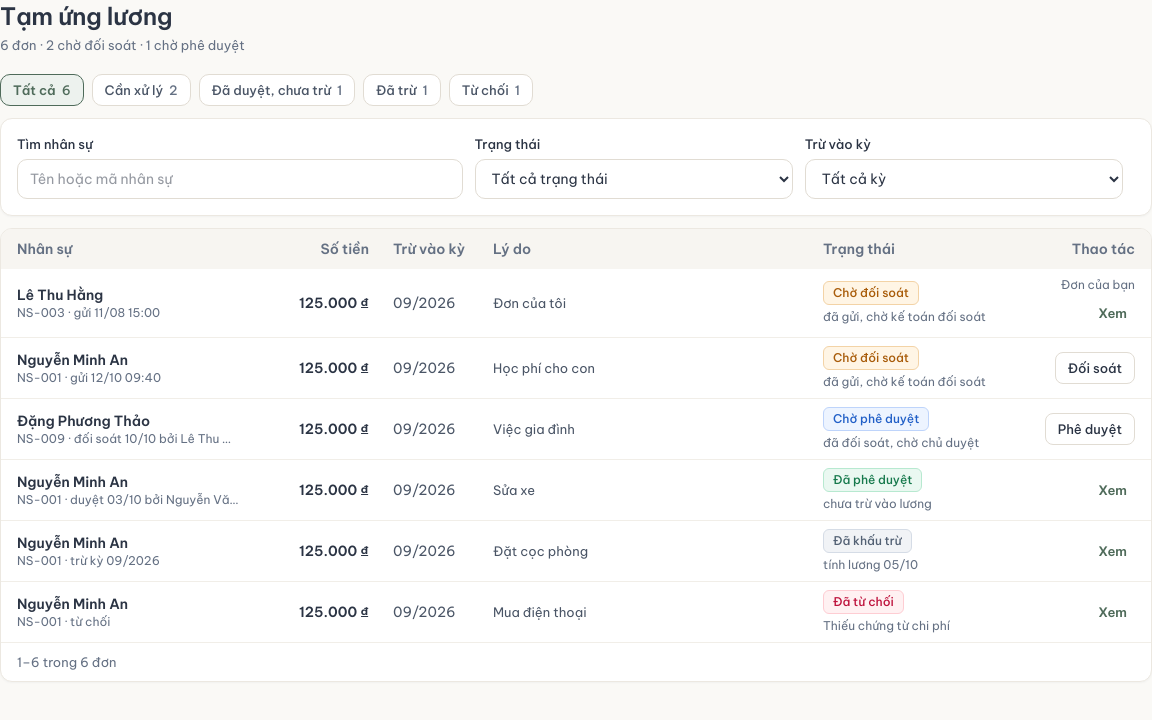
Test case: Advances list redesign › keeps the viewer's own pending request out of Cần xử lý and out of the decision controls
Expected: the buttons read "Tất cả6", "Cần xử lý2", "Đã duyệt, chưa trừ1", "Đã trừ1", "Từ chối1", in this order, [0,74,84,106]; [92,74,191,106]; [199,74,355,106]; [363,74,441,106]; [449,74,533,106]
Click the button with aria-label "Xem chi tiết tạm ứng của Lê Thu Hằng" at (1113, 313), box [1090,297,1135,329]
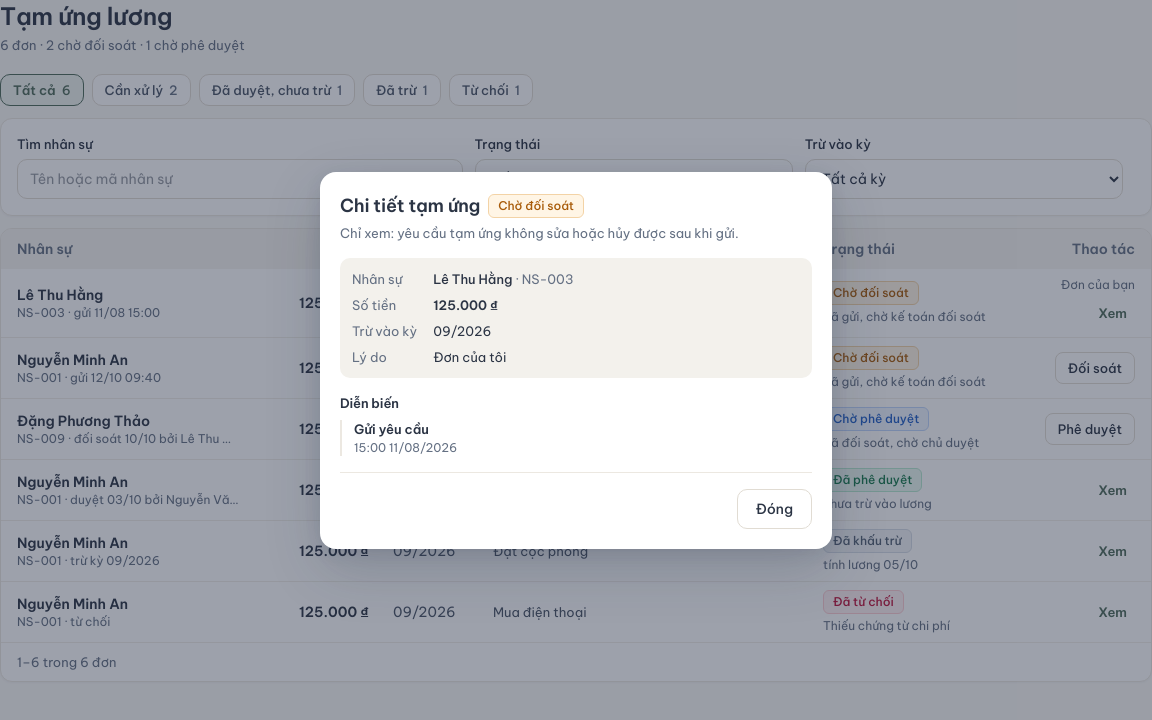
Result: the buttons read "Đóng", in this order
Click the button "Đóng" at (774, 508), box [737,488,812,528]
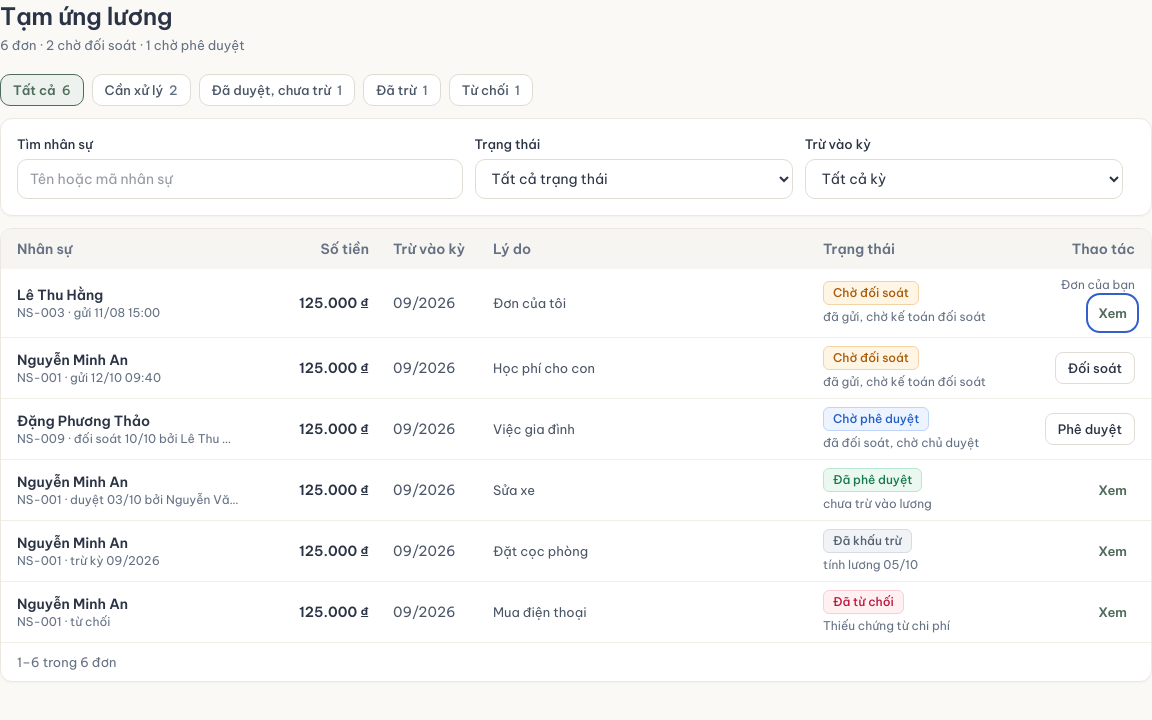
Click the button named "Cần xử lý2" at (141, 90), box [92,74,191,106]
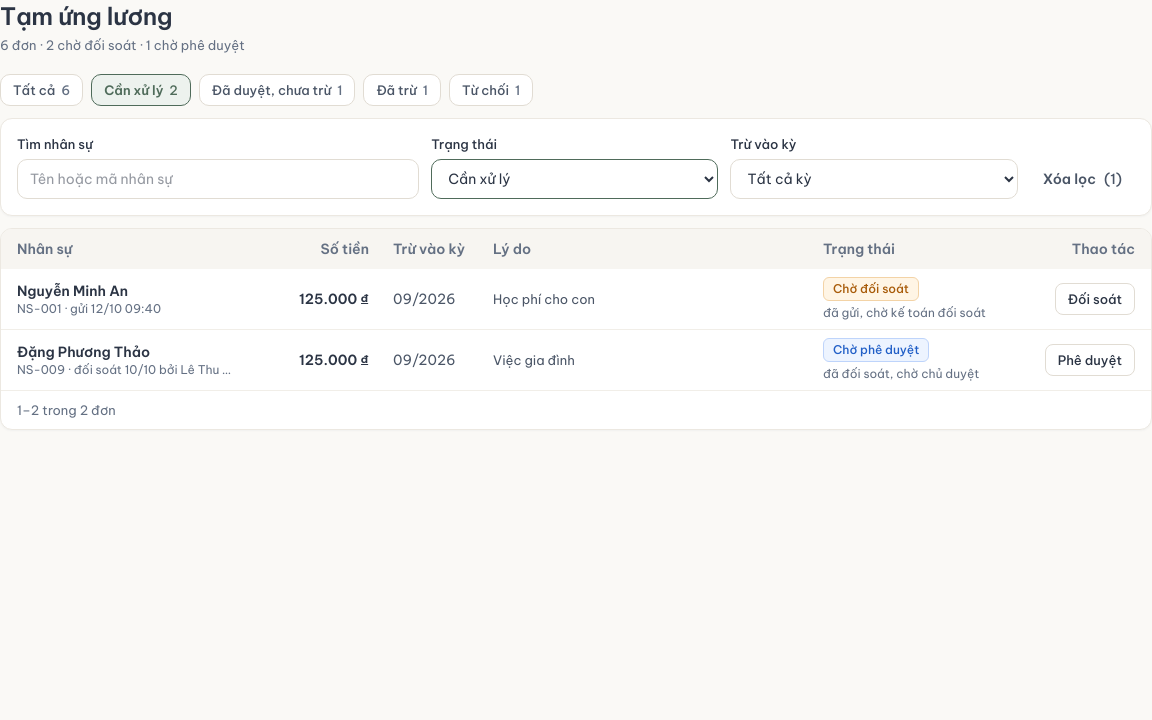
Result: the dropdown labelled "Trạng thái" shows "Cần xử lý" at [431,159,718,199]
